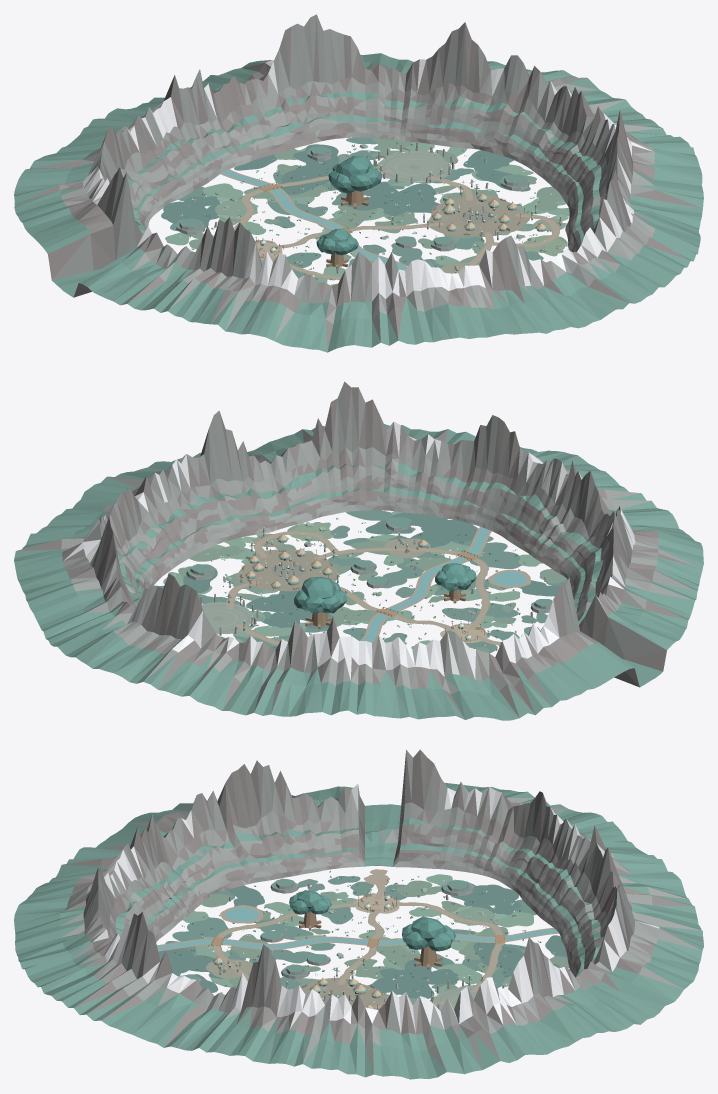
Rendered from map_field_grove.glb.
3 renders of one model, top to bottom at view 1: azimuth 30°, elevation 25°; view 2: azimuth 150°, elevation 25°; view 3: azimuth 270°, elevation 25°, orthographic.
Parts seen in each view (by area): view 1: Z_field_grove_penhascos, Z_field_grove_det_chao_0_-1, Z_field_grove_chao_aldeia, Z_field_grove_det_chao_-2_-2, Z_field_grove_chao_arena, Z_field_grove_det_chao_-1_-2, Z_field_grove_det_chao_1_-2, Z_field_grove_det_chao_-1_-1, Z_field_grove_agua_rio_1, Z_field_grove_det_chao_2_-1, Z_field_grove_det_chao_0_-2, Z_field_grove_det_chao_2_0 (+10 smaller); view 2: Z_field_grove_penhascos, Z_field_grove_det_chao_0_2, Z_field_grove_chao_aldeia, Z_field_grove_det_chao_0_-1, Z_field_grove_det_chao_0_1, Z_field_grove_det_chao_-2_0, Z_field_grove_agua_rio_1, Z_field_grove_chao_arena, Z_field_grove_det_chao_-1_-1, Z_field_grove_det_chao_-1_2, Z_field_grove_det_chao_0_-2, Z_field_grove_det_chao_2_0 (+10 smaller); view 3: Z_field_grove_penhascos, Z_field_grove_det_chao_0_-1, Z_field_grove_det_chao_-2_-2, Z_field_grove_det_chao_0_-2, Z_field_grove_det_chao_-1_-2, Z_field_grove_agua_rio_1, Z_field_grove_det_chao_0_2, Z_field_grove_det_chao_-1_2, Z_field_grove_margem_rio_1, Z_field_grove_chao_aldeia, Z_field_grove_det_chao_-2_1, Z_field_grove_det_chao_-2_0 (+12 smaller).
Boxes of the visible parts, x1,y1,x2,y2 form: Z_field_grove_penhascos: (14, 14, 703, 352); Z_field_grove_det_chao_0_-1: (333, 183, 439, 224); Z_field_grove_chao_aldeia: (428, 194, 529, 236); Z_field_grove_det_chao_-2_-2: (161, 183, 258, 227); Z_field_grove_chao_arena: (375, 150, 451, 183); Z_field_grove_det_chao_-1_-2: (234, 169, 329, 230); Z_field_grove_det_chao_1_-2: (350, 142, 458, 186); Z_field_grove_det_chao_-1_-1: (274, 206, 429, 248); Z_field_grove_agua_rio_1: (222, 170, 406, 270); Z_field_grove_det_chao_2_-1: (471, 157, 536, 191); Z_field_grove_det_chao_0_-2: (289, 161, 404, 205); Z_field_grove_det_chao_2_0: (519, 186, 569, 221); Z_field_grove_penhascos: (14, 381, 703, 720); Z_field_grove_det_chao_0_2: (365, 511, 478, 555); Z_field_grove_chao_aldeia: (237, 549, 339, 591); Z_field_grove_det_chao_0_-1: (246, 590, 361, 628); Z_field_grove_det_chao_0_1: (320, 534, 444, 580); Z_field_grove_det_chao_-2_0: (442, 588, 518, 628); Z_field_grove_agua_rio_1: (362, 527, 489, 642); Z_field_grove_chao_arena: (201, 602, 254, 633); Z_field_grove_det_chao_-1_-1: (330, 587, 449, 642); Z_field_grove_det_chao_-1_2: (447, 536, 522, 568); Z_field_grove_det_chao_0_-2: (233, 611, 328, 649); Z_field_grove_det_chao_2_0: (189, 536, 257, 561); Z_field_grove_penhascos: (14, 749, 703, 1079); Z_field_grove_det_chao_0_-1: (355, 947, 458, 998); Z_field_grove_det_chao_-2_-2: (441, 884, 533, 927); Z_field_grove_det_chao_0_-2: (431, 950, 522, 988); Z_field_grove_det_chao_-1_-2: (399, 902, 525, 985); Z_field_grove_agua_rio_1: (157, 929, 558, 950); Z_field_grove_det_chao_0_2: (158, 948, 229, 992); Z_field_grove_det_chao_-1_2: (165, 917, 231, 955); Z_field_grove_margem_rio_1: (157, 928, 558, 951); Z_field_grove_chao_aldeia: (302, 977, 387, 1009); Z_field_grove_det_chao_-2_1: (214, 885, 293, 919); Z_field_grove_det_chao_-2_0: (278, 891, 357, 926).
Size of the model in its own units: 327 by 57.59 by 327.
